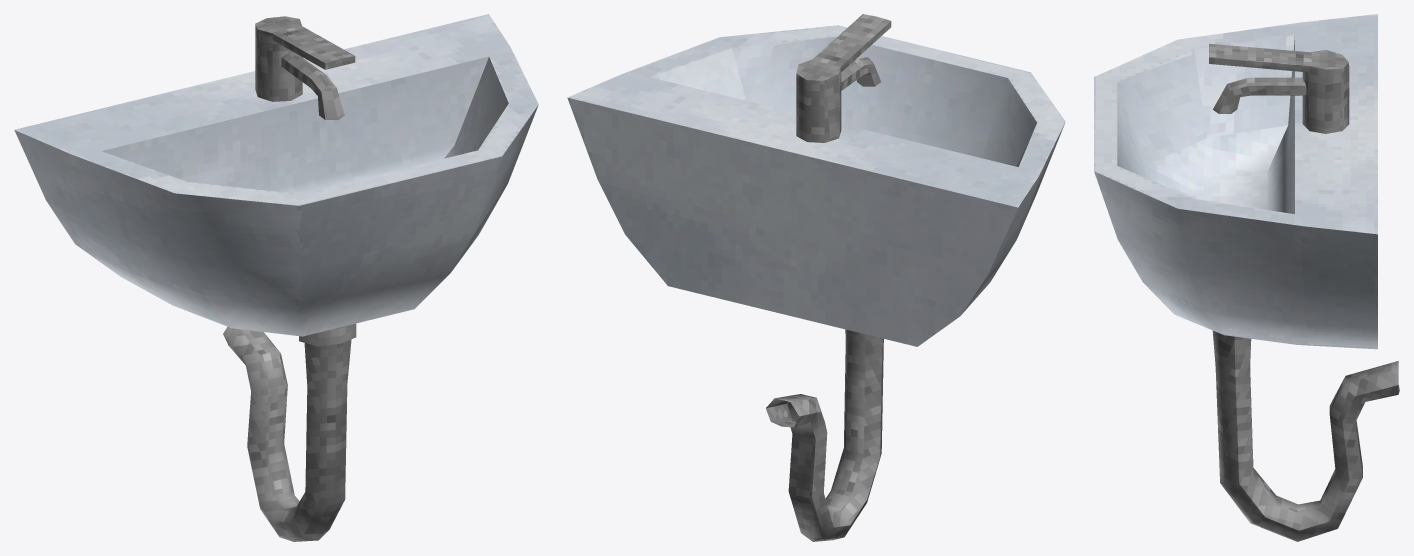
File: sink_.fbx
The picture shows the model from 3 angles, left to right: view 1: azimuth 30°, elevation 25°; view 2: azimuth 150°, elevation 25°; view 3: azimuth 270°, elevation 25°; orthographic projection. The views are drawn at different scales.
Visible parts, largest first — view 1: Bathroom_Sink; view 2: Bathroom_Sink; view 3: Bathroom_Sink.
Boxes of the visible parts, box(x1,y1,x2,y2) form: Bathroom_Sink: box(14, 14, 538, 541); Bathroom_Sink: box(567, 14, 1065, 541); Bathroom_Sink: box(1094, 14, 1399, 541).
Size of the model in its own units: 96.1 by 100 by 56.39.
